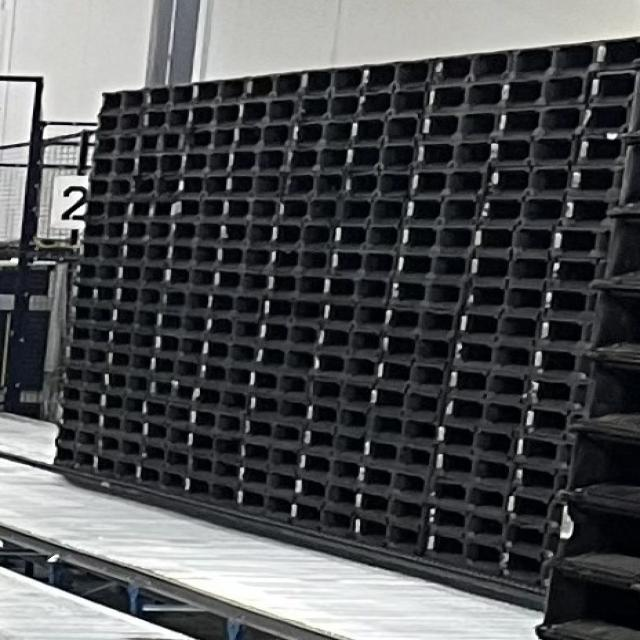igps: (424, 529, 499, 580), (425, 498, 504, 543), (505, 38, 596, 77), (352, 512, 424, 560), (426, 473, 506, 513), (434, 422, 516, 458), (433, 449, 512, 486), (481, 137, 578, 167), (466, 252, 551, 286), (447, 366, 527, 402), (354, 486, 426, 526), (290, 499, 354, 543), (440, 396, 525, 429), (452, 337, 532, 372), (432, 48, 512, 82), (477, 193, 563, 224), (470, 222, 550, 255), (500, 76, 590, 105), (496, 105, 582, 135), (356, 460, 427, 496), (502, 516, 562, 558), (364, 411, 436, 446), (358, 56, 432, 90), (457, 312, 539, 342), (526, 374, 592, 411), (382, 304, 458, 336), (462, 283, 543, 313), (368, 386, 443, 418), (510, 461, 577, 496), (381, 330, 452, 363), (504, 491, 570, 526), (532, 344, 596, 380), (484, 170, 569, 197), (522, 404, 589, 438), (515, 432, 580, 467), (362, 439, 434, 470), (496, 550, 556, 587), (303, 374, 369, 407), (183, 472, 236, 513), (294, 474, 354, 510), (236, 486, 290, 526), (426, 82, 502, 110), (334, 194, 406, 223), (390, 279, 464, 307), (357, 88, 428, 117), (537, 316, 596, 350), (304, 402, 370, 432), (404, 196, 480, 222), (332, 222, 400, 251), (396, 252, 469, 279), (374, 362, 446, 389), (322, 276, 391, 304), (420, 113, 497, 138), (302, 427, 364, 458), (238, 70, 300, 101), (296, 65, 360, 95), (247, 366, 311, 396), (550, 225, 613, 255), (342, 170, 412, 197), (298, 452, 357, 484), (315, 328, 382, 356), (548, 257, 610, 287), (568, 167, 626, 199), (542, 286, 600, 318), (312, 353, 376, 382), (561, 198, 622, 228), (238, 438, 299, 468), (343, 144, 416, 169), (347, 119, 422, 143), (134, 463, 184, 499), (268, 222, 334, 249), (416, 144, 490, 168), (284, 144, 346, 172), (262, 294, 324, 322), (238, 462, 294, 493), (321, 300, 384, 327), (185, 428, 239, 459), (575, 133, 627, 165), (280, 172, 344, 198), (254, 344, 313, 372), (411, 172, 486, 194), (245, 394, 306, 421), (185, 452, 238, 483), (242, 416, 302, 443), (139, 80, 193, 110), (277, 197, 339, 223), (269, 247, 331, 273), (593, 36, 640, 70), (206, 290, 263, 318), (579, 103, 634, 132), (190, 75, 245, 104), (400, 228, 472, 250), (200, 336, 254, 365), (190, 385, 248, 412), (329, 251, 397, 274), (90, 453, 136, 487), (236, 98, 298, 123), (215, 243, 270, 271), (187, 408, 244, 435), (265, 272, 324, 298), (258, 321, 317, 347), (138, 440, 189, 470), (51, 442, 93, 478), (290, 120, 350, 145), (221, 195, 278, 221), (587, 72, 639, 100), (212, 268, 268, 294), (231, 123, 291, 147), (184, 101, 237, 128), (204, 313, 259, 339), (148, 354, 200, 381), (140, 398, 190, 426), (293, 96, 356, 118), (223, 174, 283, 197), (218, 221, 271, 247), (197, 360, 248, 387), (52, 401, 99, 430), (224, 149, 285, 171), (95, 87, 146, 113), (170, 219, 220, 245), (164, 241, 216, 266), (158, 287, 208, 313), (155, 311, 206, 336), (153, 333, 202, 359), (55, 344, 107, 368), (51, 424, 97, 451), (184, 127, 233, 152), (137, 106, 188, 130), (141, 421, 187, 447), (132, 132, 188, 153), (54, 366, 104, 389), (162, 266, 214, 288), (129, 175, 178, 198), (148, 378, 193, 403), (97, 412, 142, 437), (55, 384, 100, 409), (116, 263, 164, 286), (106, 328, 154, 351), (102, 372, 150, 395), (96, 436, 142, 460), (178, 152, 228, 174), (112, 284, 162, 306), (106, 349, 150, 374), (71, 261, 118, 284), (69, 282, 116, 305), (55, 327, 109, 347), (174, 198, 223, 220), (64, 304, 112, 326), (130, 153, 180, 174), (80, 199, 127, 221), (175, 176, 226, 196), (91, 114, 142, 134), (86, 157, 134, 178), (89, 134, 134, 156), (98, 391, 142, 413), (111, 307, 157, 328), (73, 241, 121, 261), (83, 180, 130, 200), (121, 221, 170, 240), (120, 242, 166, 262), (124, 200, 170, 219), (79, 222, 122, 242)
